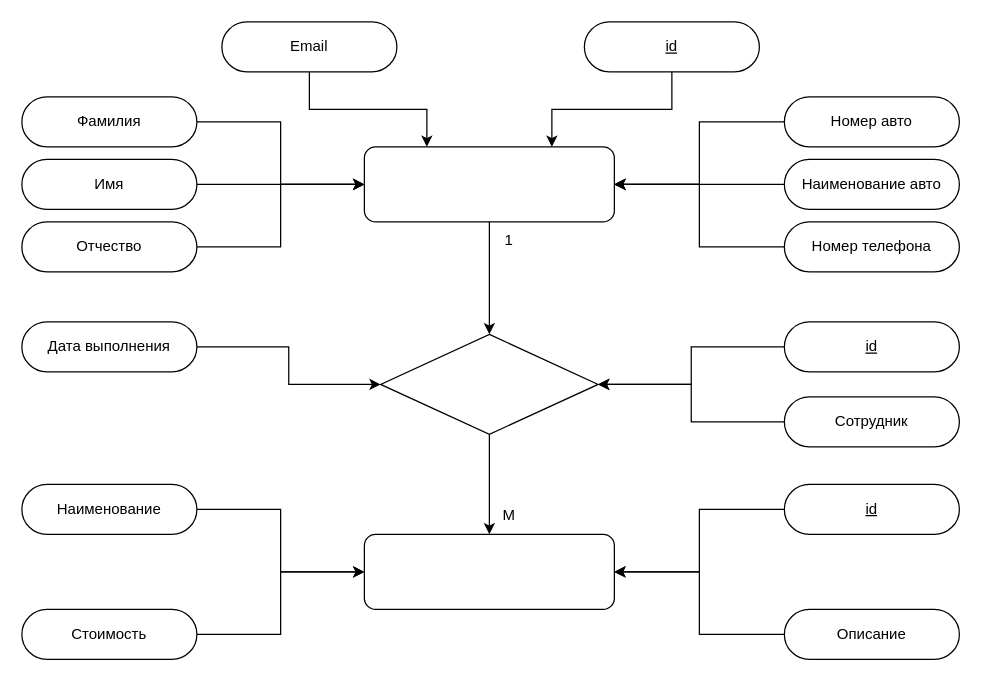
Some shapes in this 981 by 681 pixel diagram are drawn without their labels. Here are the shapes that lost their labels. From the top down, the centre of each, then its label:
At point 488,184: "Клиент".
At point 488,383: "Оказание технического обслуживания".
At point 488,571: "Услуга".
